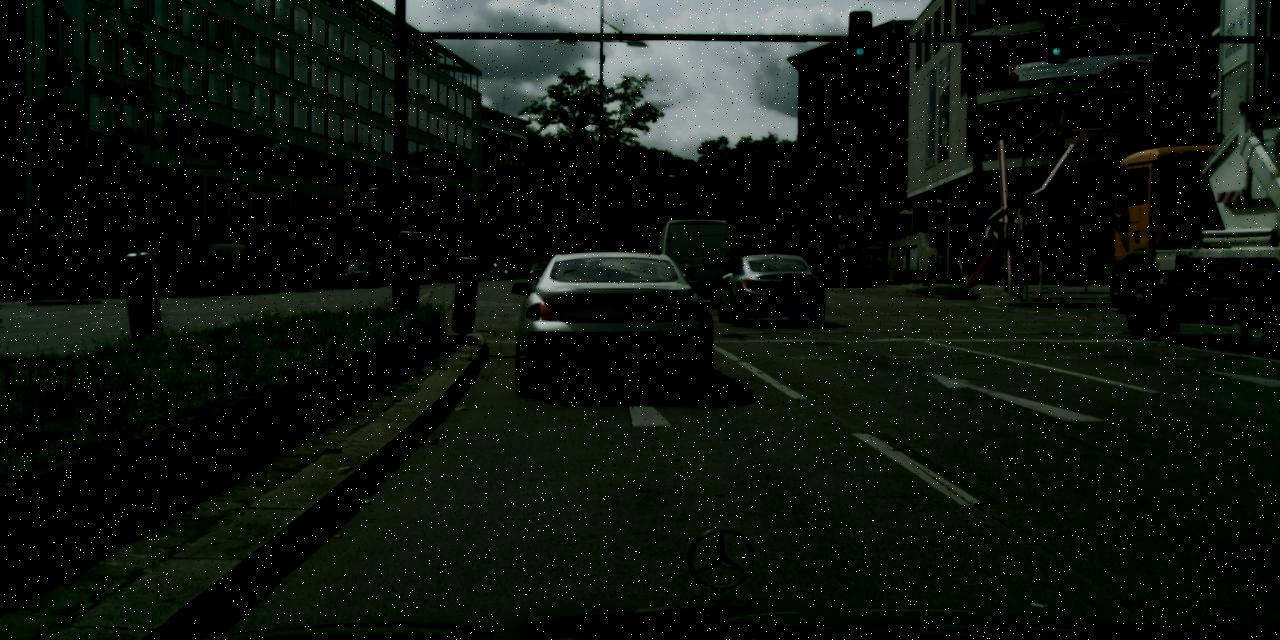ped: (294, 255, 309, 291), (219, 259, 232, 291), (925, 254, 936, 280), (207, 256, 217, 281)
